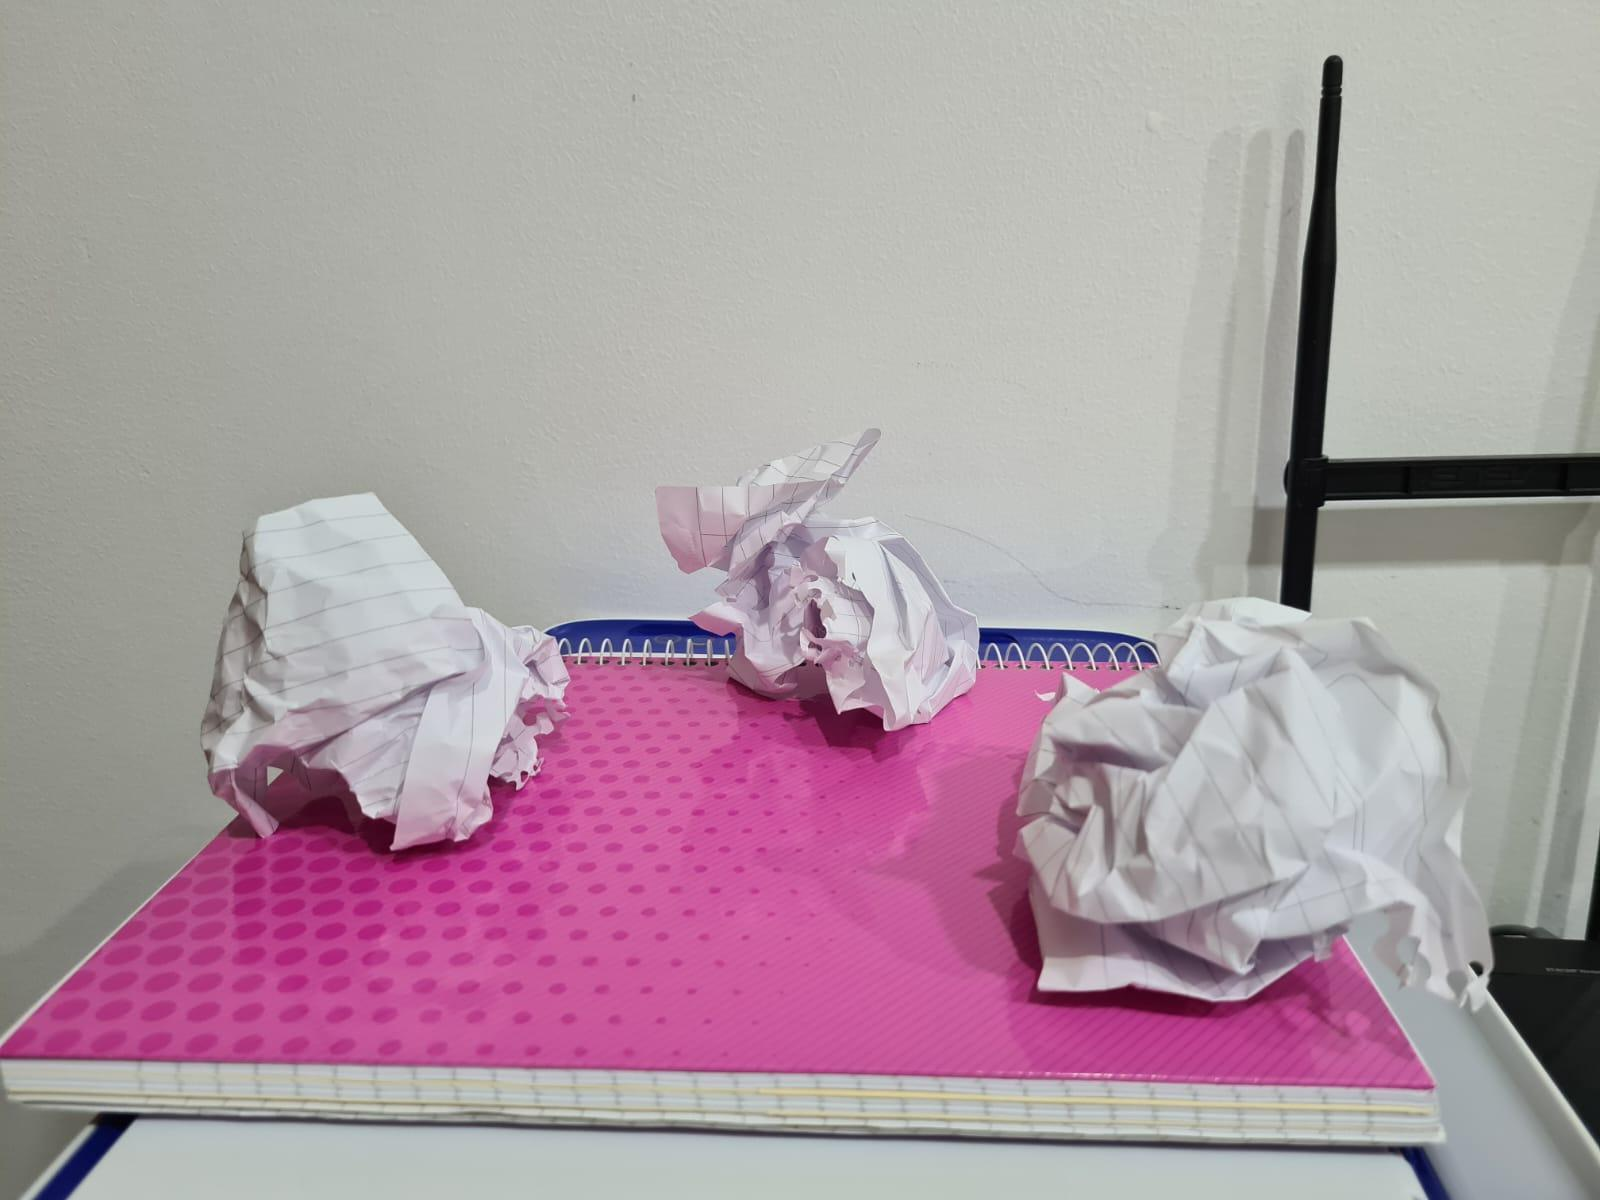Paper: (1038, 595, 1459, 982), (218, 500, 550, 825), (651, 463, 992, 713)
